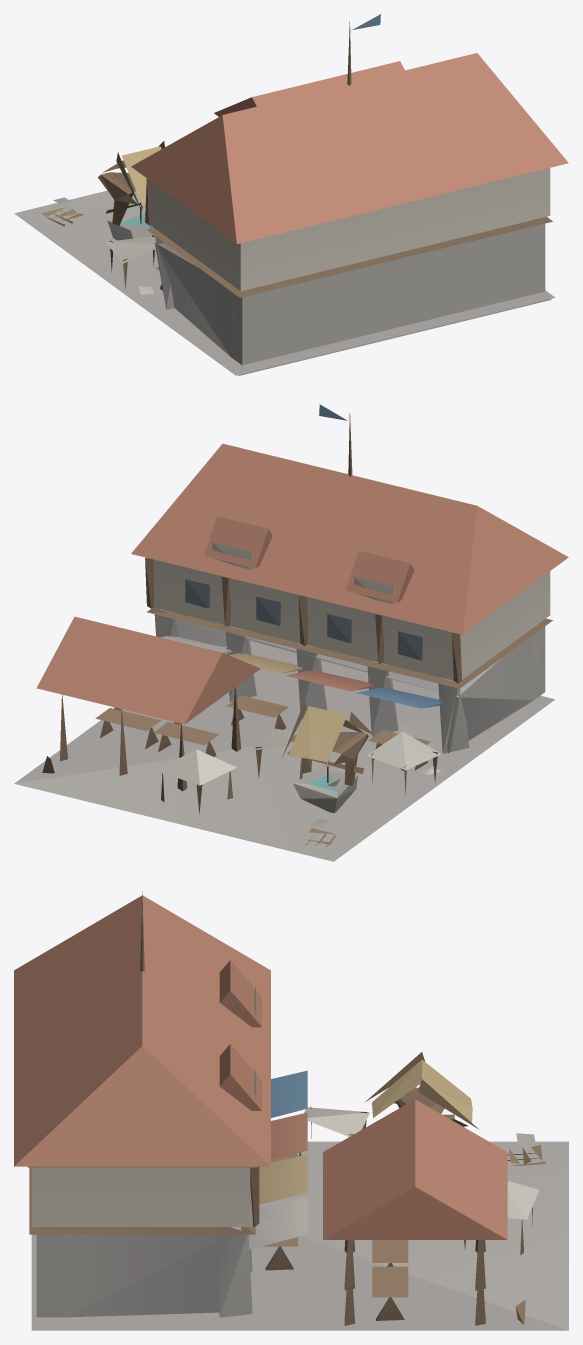
Rendered from market_small.l3.lite.glb.
3 views of the same model, one above another, from view 1: azimuth 30°, elevation 25°; view 2: azimuth 150°, elevation 25°; view 3: azimuth 270°, elevation 25° (orthographic). The views are drawn at different scales.
Visible parts, largest first — view 1: market_small; view 2: market_small; view 3: market_small.
Boxes of the visible parts, <box> form: market_small: <box>14,14,568,375</box>; market_small: <box>14,404,568,861</box>; market_small: <box>14,891,568,1330</box>.
Size of the model in its own units: 5.15 by 4.25 by 6.15.
